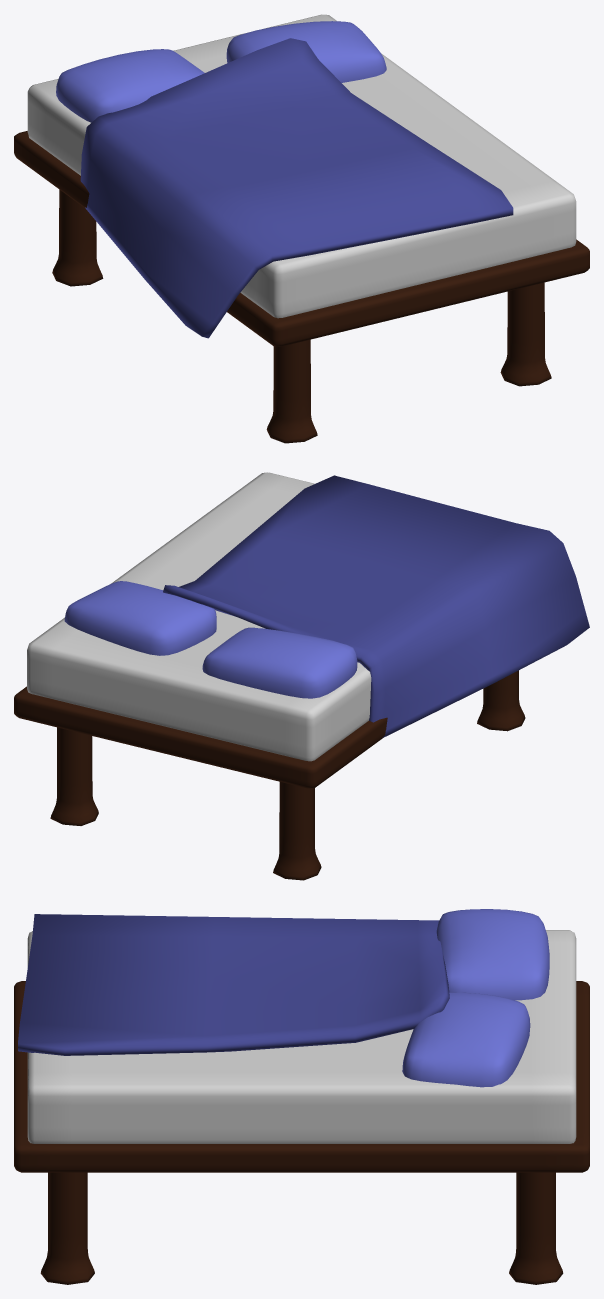
Rendered from bed.fbx.
3 renders of one model, top to bottom at view 1: azimuth 30°, elevation 25°; view 2: azimuth 150°, elevation 25°; view 3: azimuth 270°, elevation 25°, orthographic. The views are drawn at different scales.
Visible parts, largest first — view 1: Cube; view 2: Cube; view 3: Cube.
Boxes of the visible parts, left/top/right/bottom form: Cube: left=14, top=14, right=589, bottom=443; Cube: left=14, top=472, right=589, bottom=880; Cube: left=14, top=909, right=589, bottom=1284.
Size of the model in its own units: 560 by 334 by 696.
